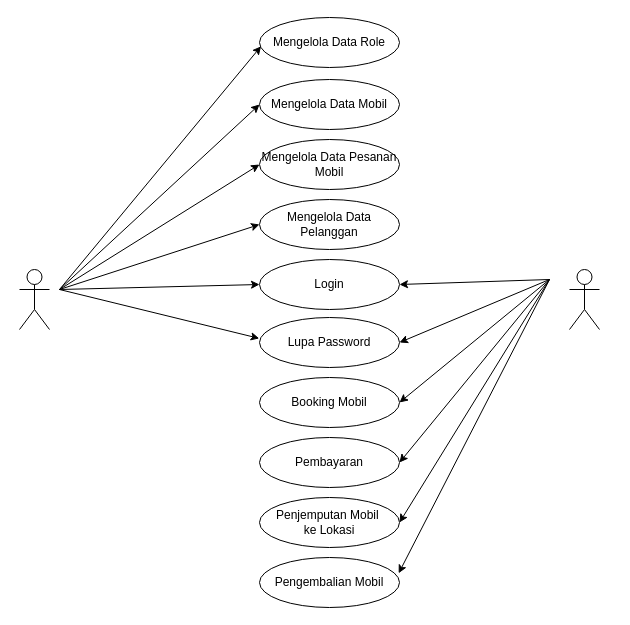
This 630x625 diagram has some shape labels left out. The box of each missing label's shape, as (x1, y1, x2, y2) in pixels:
Admin: (18, 268, 50, 330)
Pelanggan: (568, 268, 600, 330)
